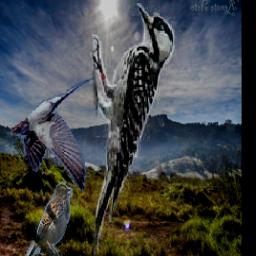Sparrow: (23, 182, 72, 256)
Swallow: (11, 76, 98, 192)
Woodpecker: (89, 4, 176, 256)
